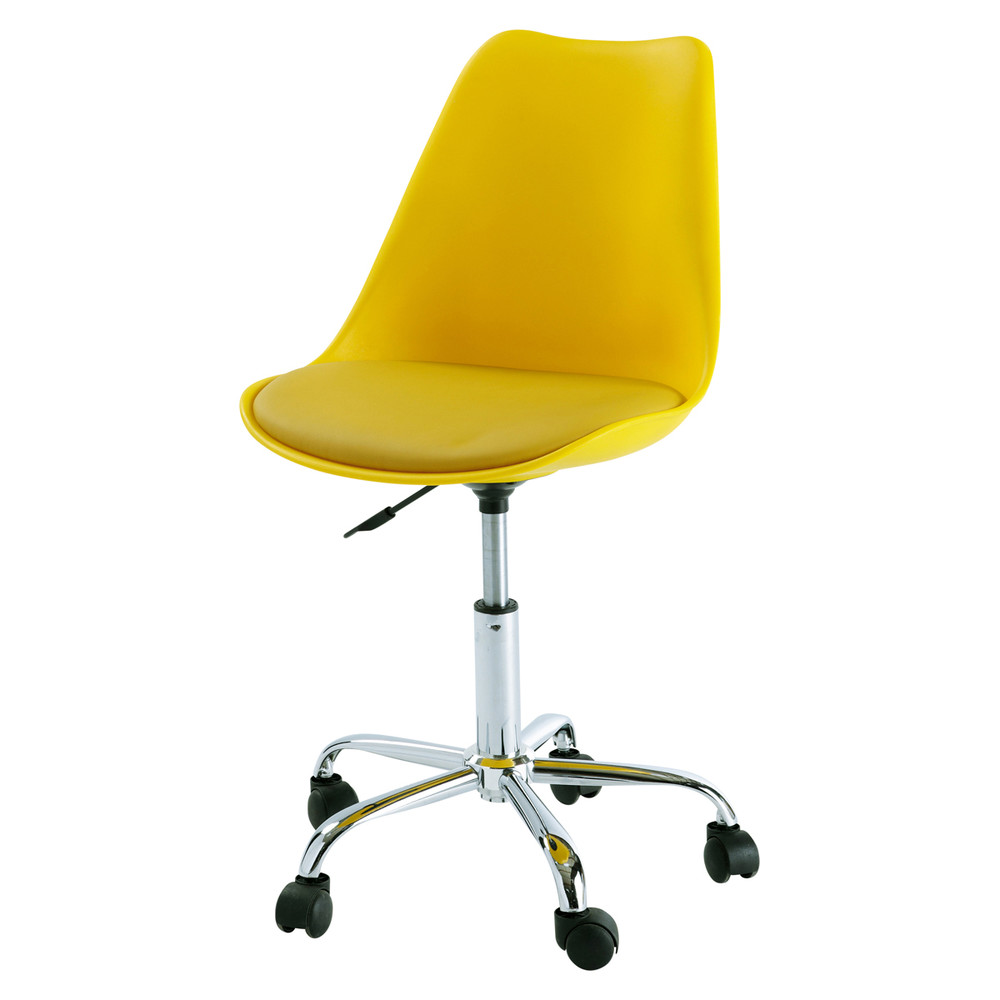chairs: (240, 12, 763, 971)
